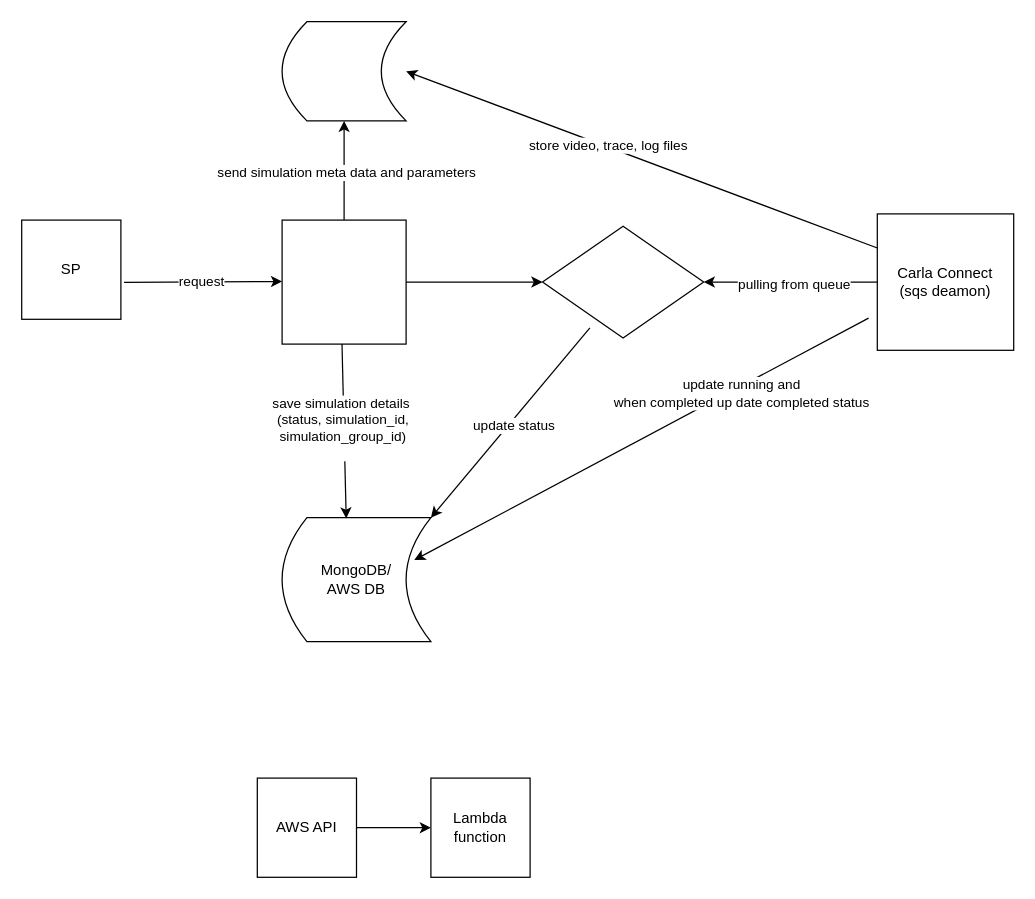
The diagram is 1035 pixels wide and 899 high, and some of its shapes have lost their labels. Here are the shapes that lost their labels. From the top down, the centre of each, then its label:
the point at 343,70: S3 bucket
the point at 343,281: NestJs server (Carla Adapter)
the point at 622,281: RabbitMq/ SQS
